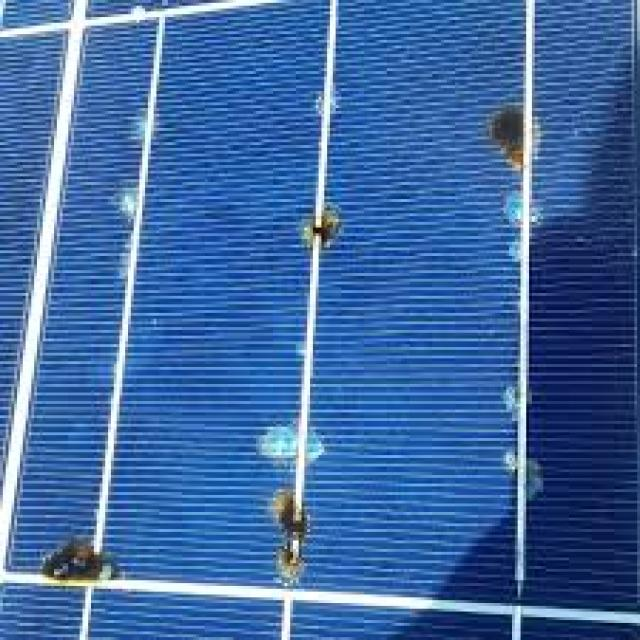faulty: (0, 22, 619, 640)
